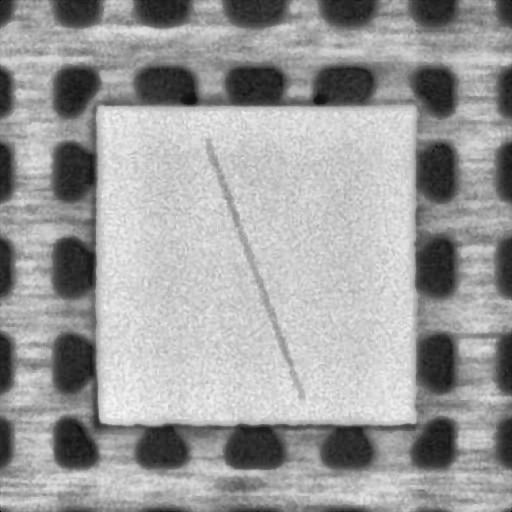DIE_CRACK: (205, 139, 300, 397)
